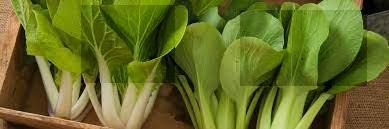Healthy-Pechay: (262, 0, 371, 129), (161, 11, 276, 129), (22, 0, 96, 116), (94, 1, 165, 111)
